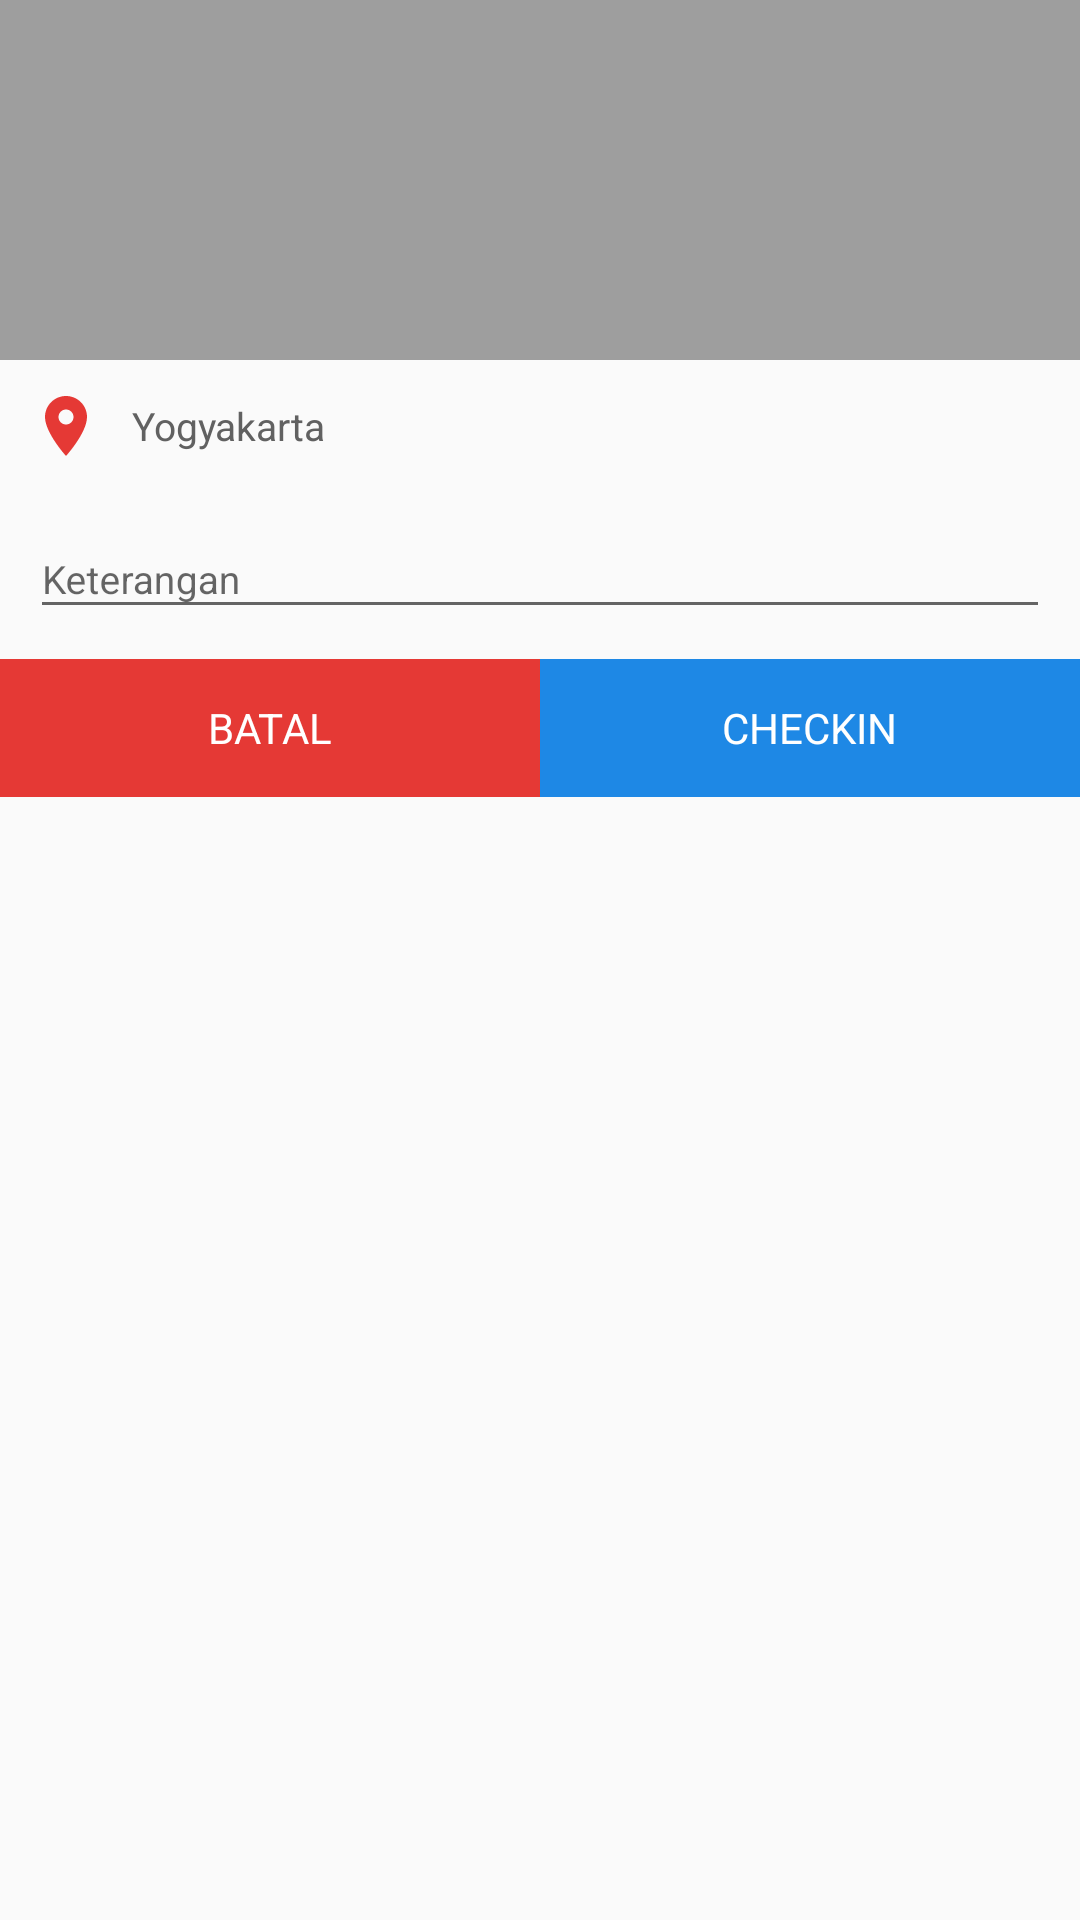

Screen size 1080 x 1920. Icon name, then its center in pixels as (x=x, y=y):
location on: (x=66, y=426)
